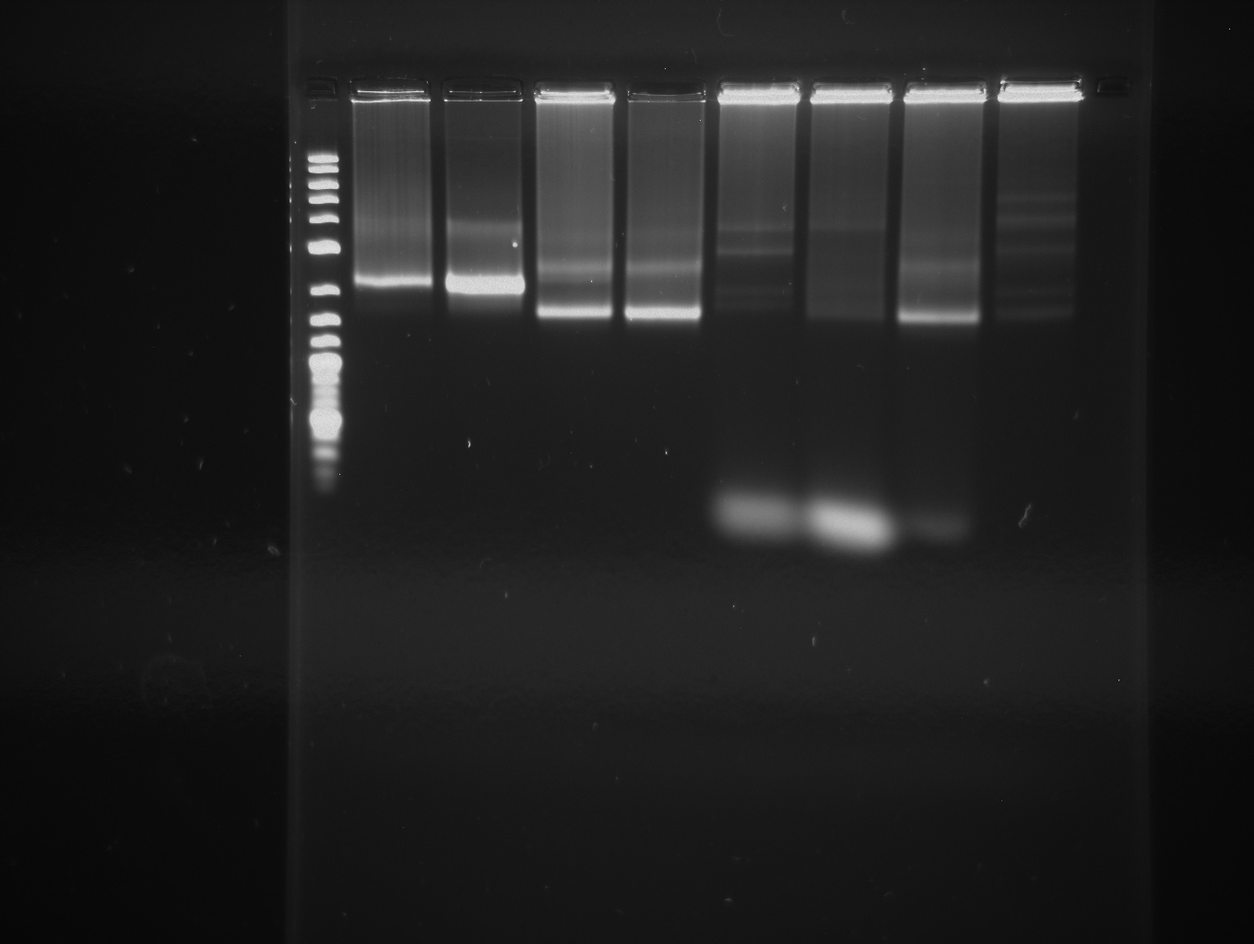Lane: (897, 58, 988, 944), (1000, 51, 1085, 929), (350, 52, 432, 944), (445, 55, 526, 944), (539, 51, 618, 933), (719, 62, 798, 944), (629, 55, 703, 944), (811, 55, 886, 930)
ladder: (288, 60, 349, 944)
